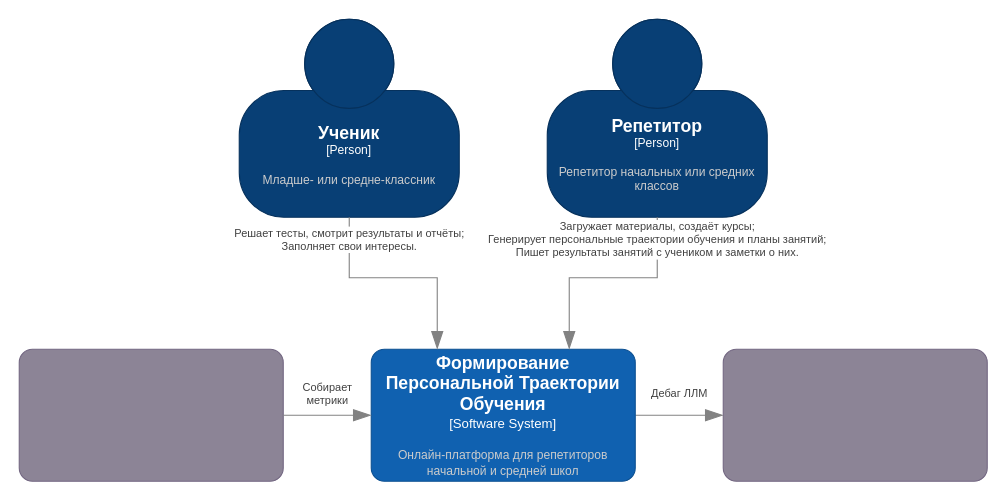
The diagram is 1007 pixels wide and 501 high, and some of its shapes have lost their labels. Each missing label, with the centre of its shape:
"Grafana and Prometheus [Software System] Logging" goes at (150,414).
"Langfuse [Software System] LLM Debugger" goes at (854,414).
